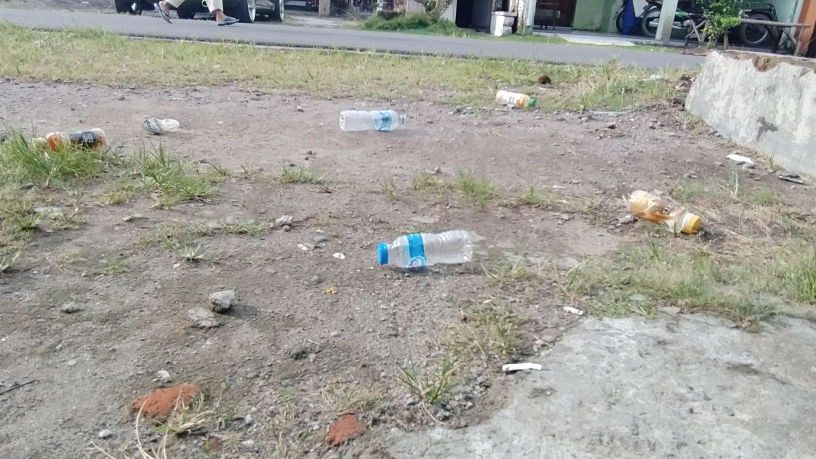botol: (371, 222, 487, 273), (629, 182, 720, 237), (17, 115, 114, 161), (335, 95, 416, 139), (491, 85, 544, 112)
